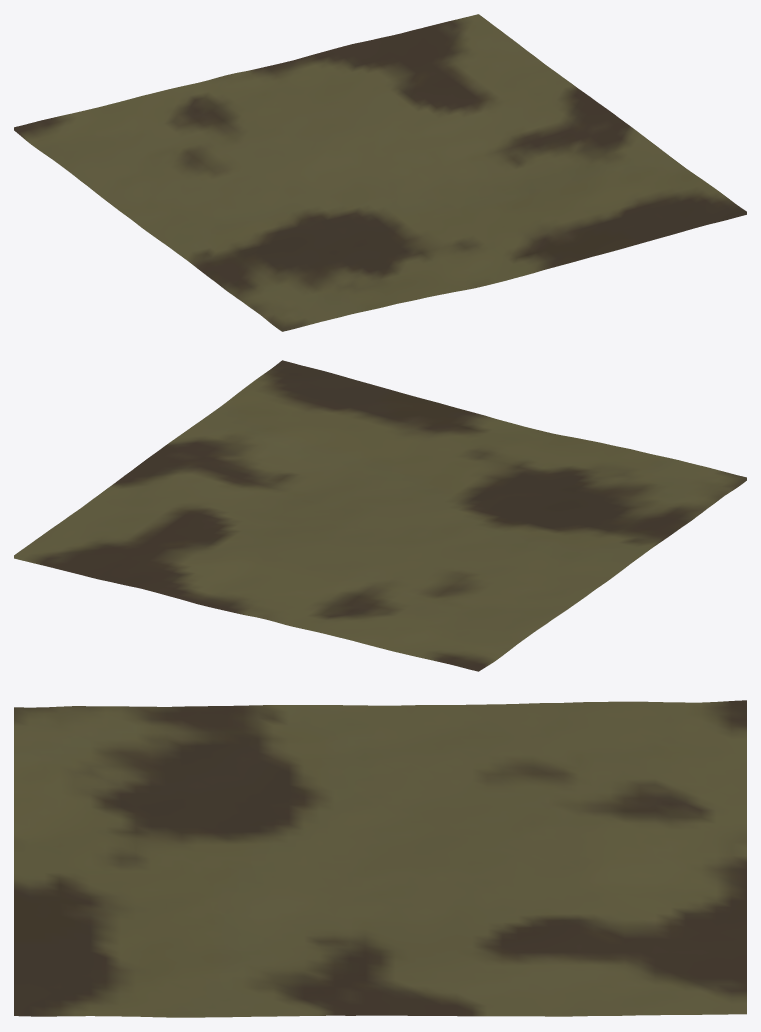
Rendered from land_m_08_00.glb.
3 renders of one model, top to bottom at view 1: azimuth 30°, elevation 25°; view 2: azimuth 150°, elevation 25°; view 3: azimuth 270°, elevation 25°, orthographic. The views are drawn at different scales.
Parts seen in each view (by area): view 1: land_m_08_00; view 2: land_m_08_00; view 3: land_m_08_00.
Boxes of the visible parts, bbox=[...] form: land_m_08_00: bbox=[14, 14, 746, 331]; land_m_08_00: bbox=[14, 360, 746, 671]; land_m_08_00: bbox=[14, 700, 746, 1017].
Bounding box in the file's own units: 960 × 24.43 × 960.
